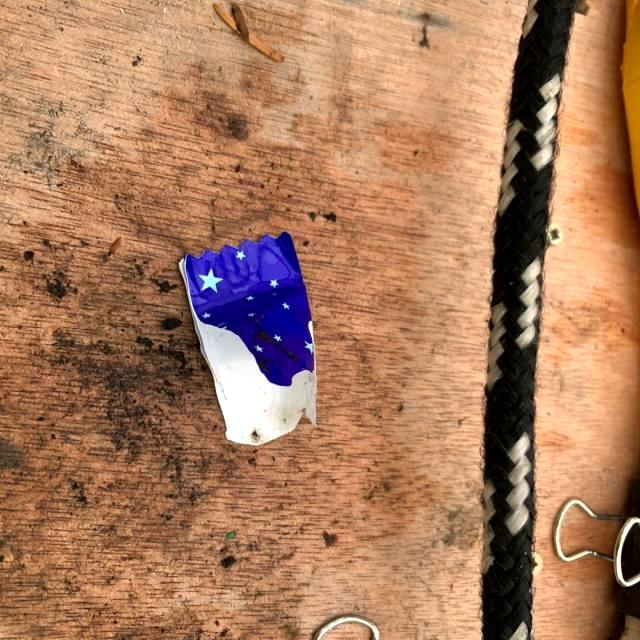Plastic: (175, 231, 319, 447)
